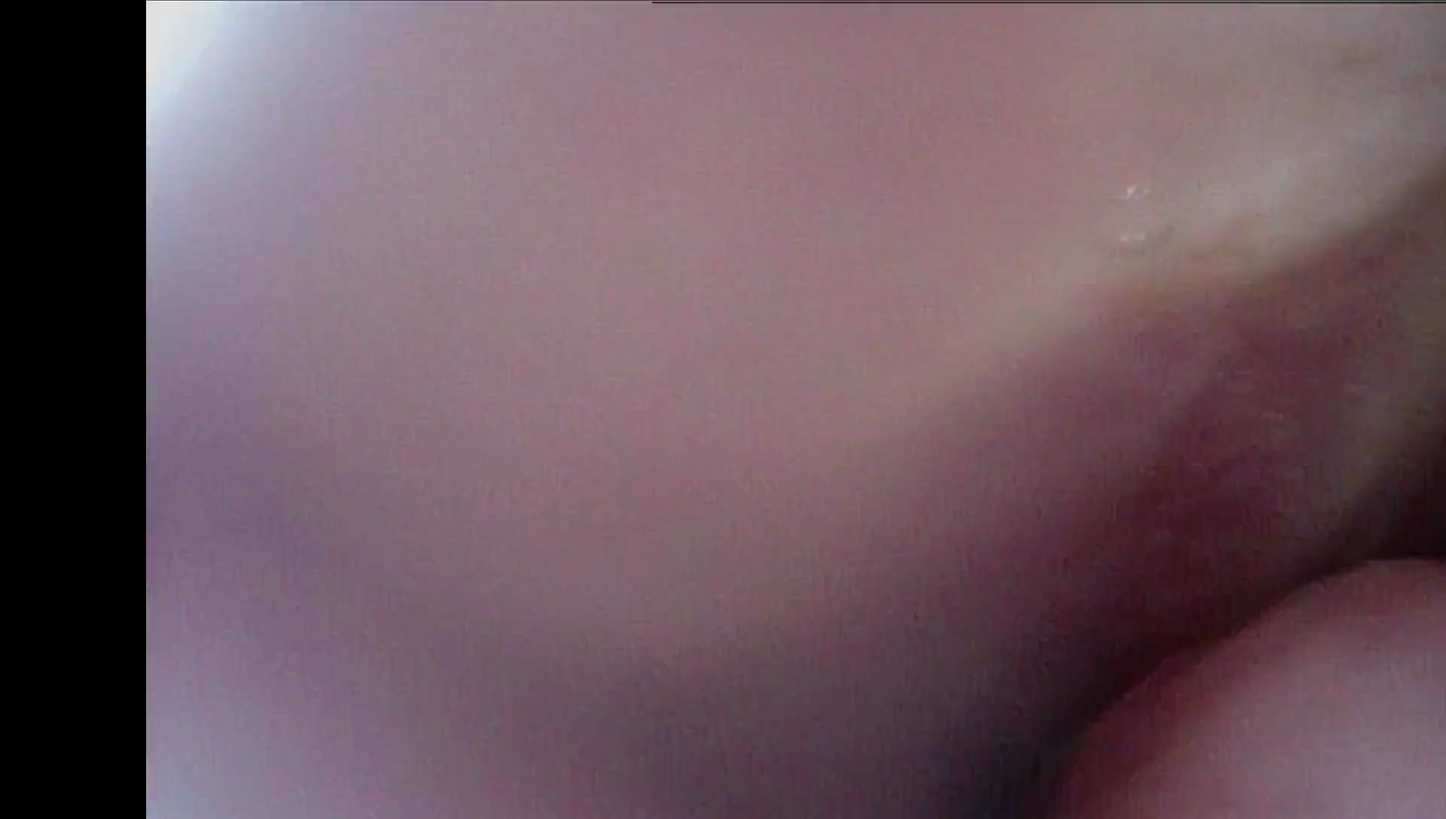close_wall: (160, 467, 547, 819), (146, 0, 414, 278)
next: (949, 623, 1183, 819), (1291, 437, 1442, 590)
